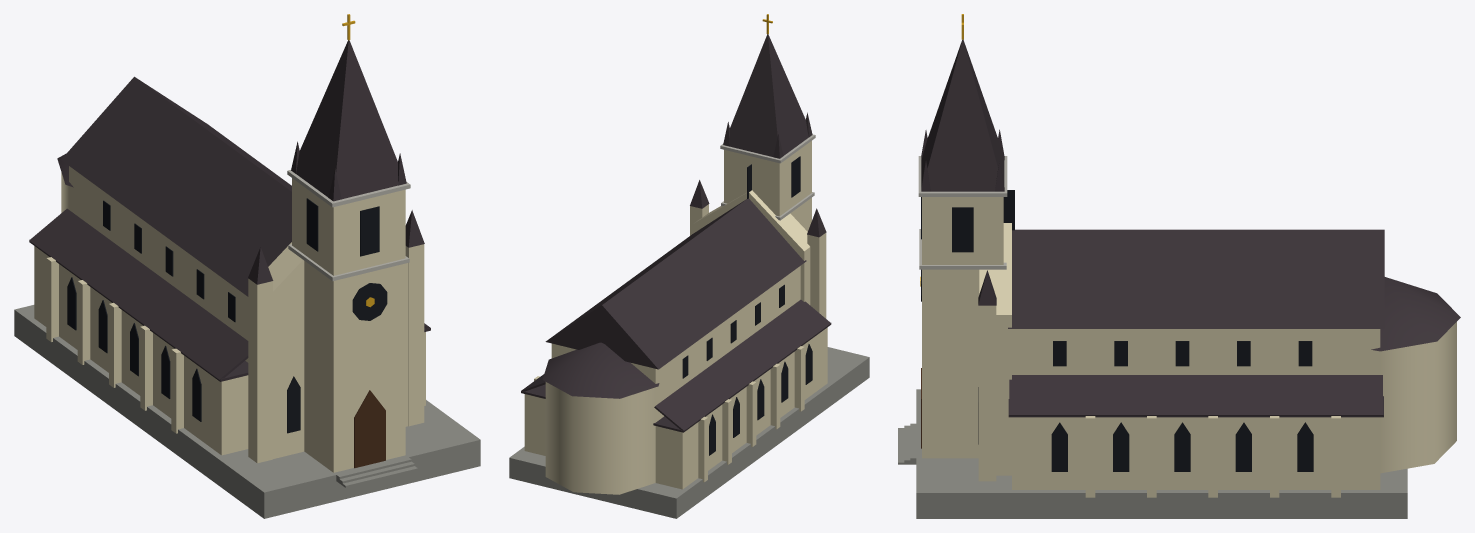
The model's file is katedral_bogor.glb.
3 renders of one model, left to right at view 1: azimuth 30°, elevation 25°; view 2: azimuth 150°, elevation 25°; view 3: azimuth 270°, elevation 25°, orthographic. The views are drawn at different scales.
Visible parts, largest first — view 1: body; view 2: body; view 3: body.
Part boxes in pixels (x1,y1,x2,y2): body: (14, 14, 480, 518); body: (509, 14, 869, 518); body: (898, 14, 1460, 518).
Size of the model in its own units: 18.3 by 36.6 by 41.25.
Materials: 1 (1 with a texture image).
